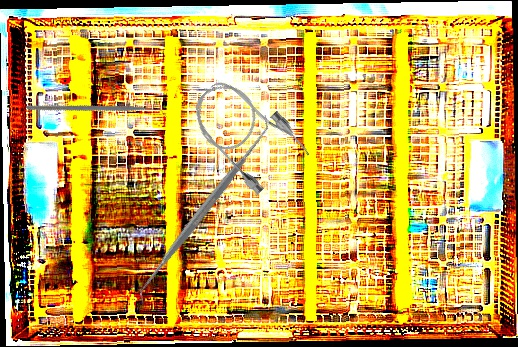Cannula: (180, 65, 315, 201)
Chopper: (25, 47, 169, 178)
Spatula Surgical: (125, 112, 284, 305)
